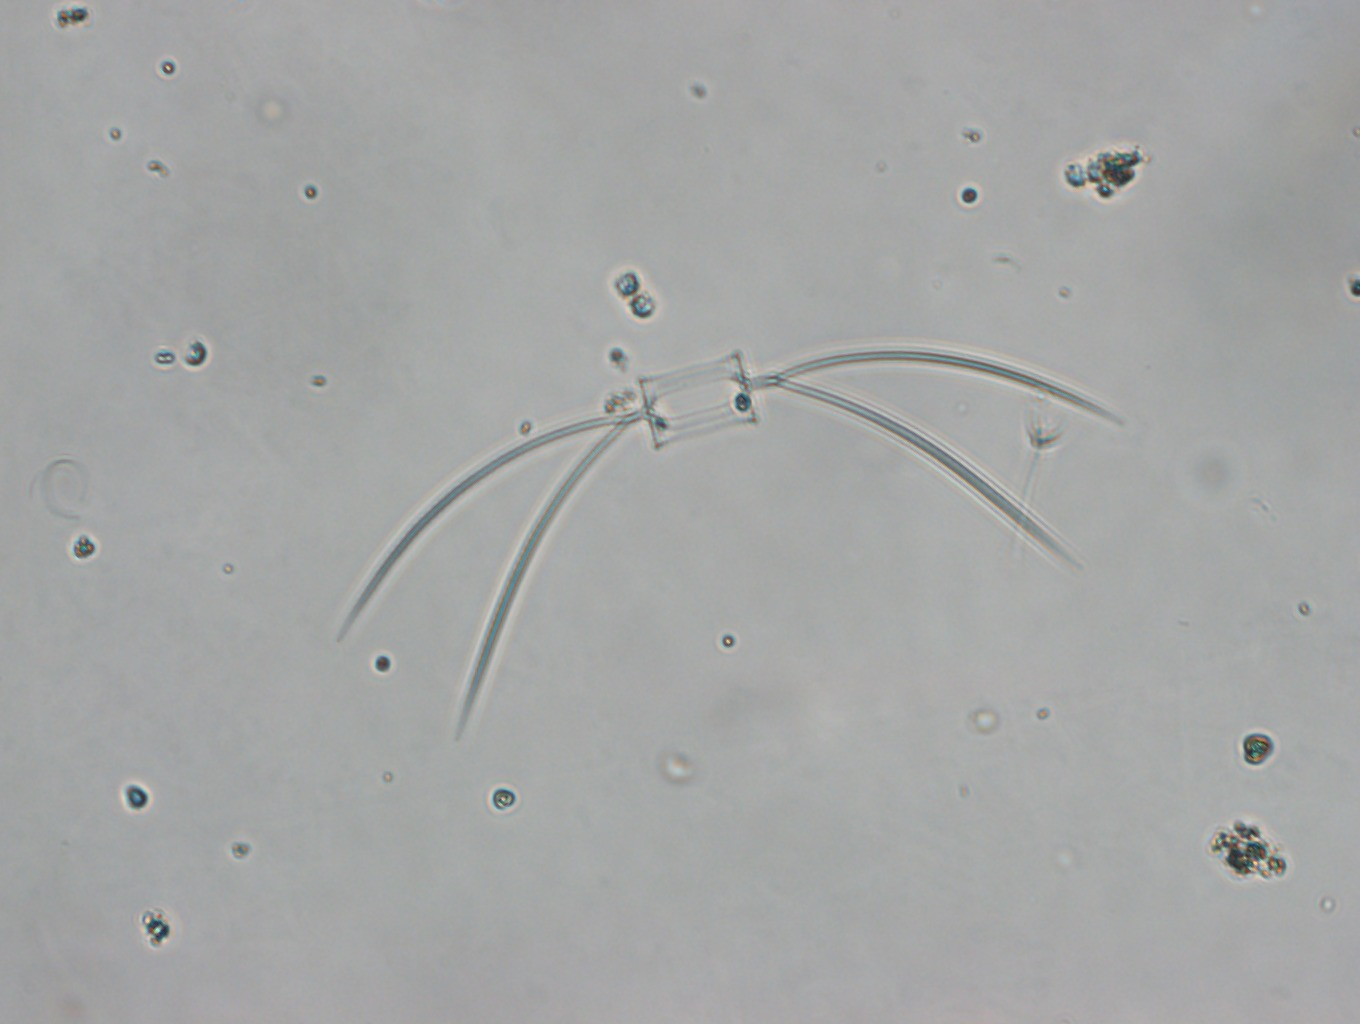chaetoceros: (339, 325, 1121, 734)
